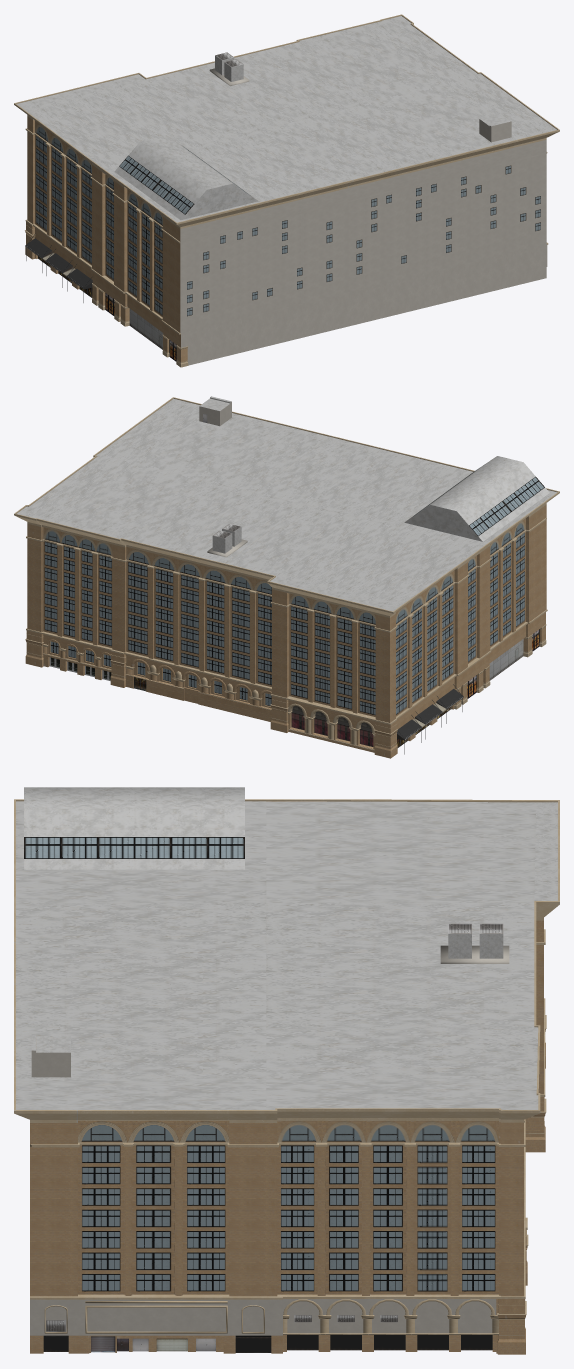
3 views of the same model, one above another, from view 1: azimuth 30°, elevation 25°; view 2: azimuth 150°, elevation 25°; view 3: azimuth 270°, elevation 25° (orthographic). The views are drawn at different scales.
Parts seen in each view (by area): view 1: building_los_base_tile_0, building_los_unikal_text_0; view 2: building_los_base_tile_0, building_los_unikal_text_0; view 3: building_los_base_tile_0, building_los_unikal_text_0.
Part boxes in pixels (left/top/right/bottom): building_los_base_tile_0: left=14, top=14, right=559, bottom=367; building_los_unikal_text_0: left=25, top=52, right=540, bottom=361; building_los_base_tile_0: left=14, top=396, right=559, bottom=758; building_los_unikal_text_0: left=43, top=413, right=544, bottom=754; building_los_base_tile_0: left=14, top=787, right=559, bottom=1354; building_los_unikal_text_0: left=24, top=837, right=503, bottom=1352.
Size of the model in its own units: 9331 by 4025 by 6907.
Materials: 2 (2 with a texture image).
